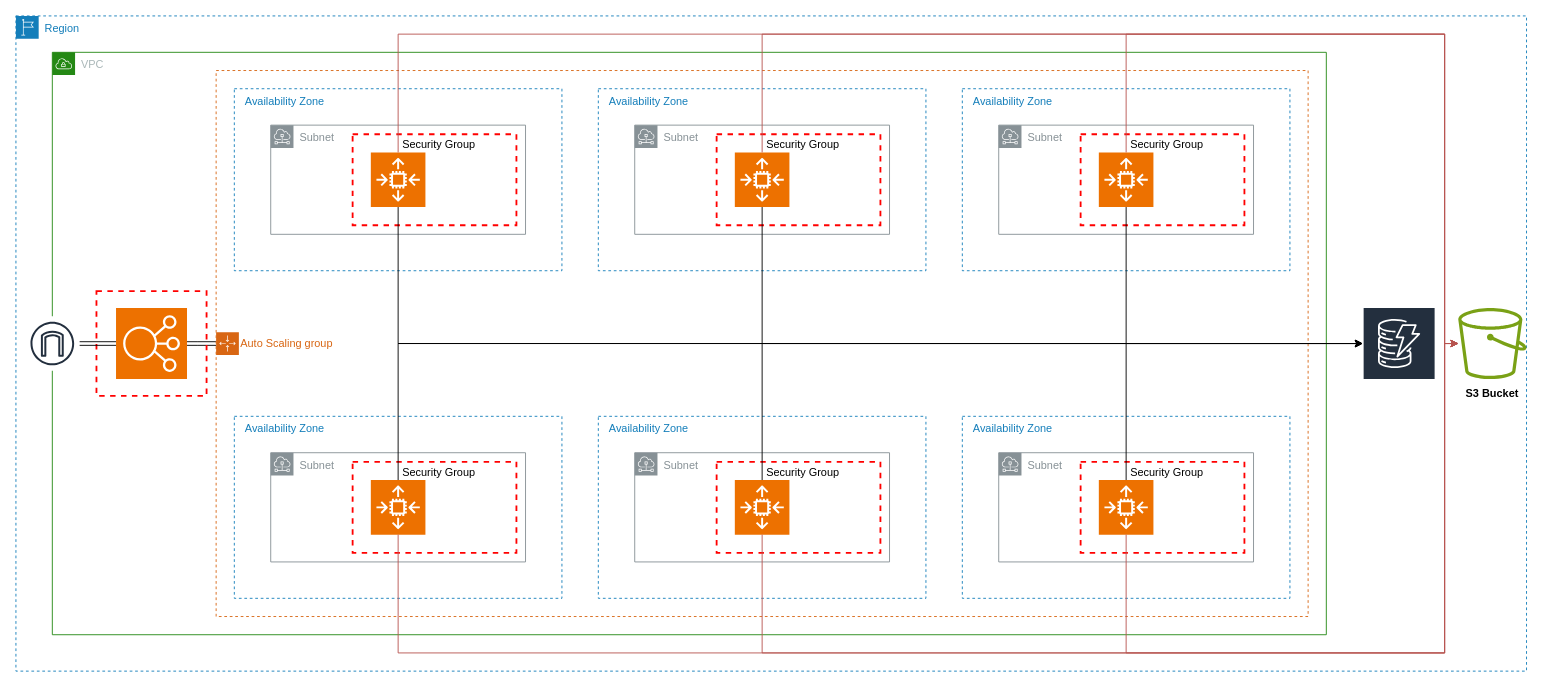
Some shapes in this 1542 by 687 pixel diagram are drawn without their labels. The box of each missing label's shape, as (x1, y1, x2, y2) in pixels:
Amazon DynamoDB: (1362, 306, 1436, 407)
ELB Security Group: (95, 290, 207, 396)
Internet gateway: (24, 315, 80, 371)
